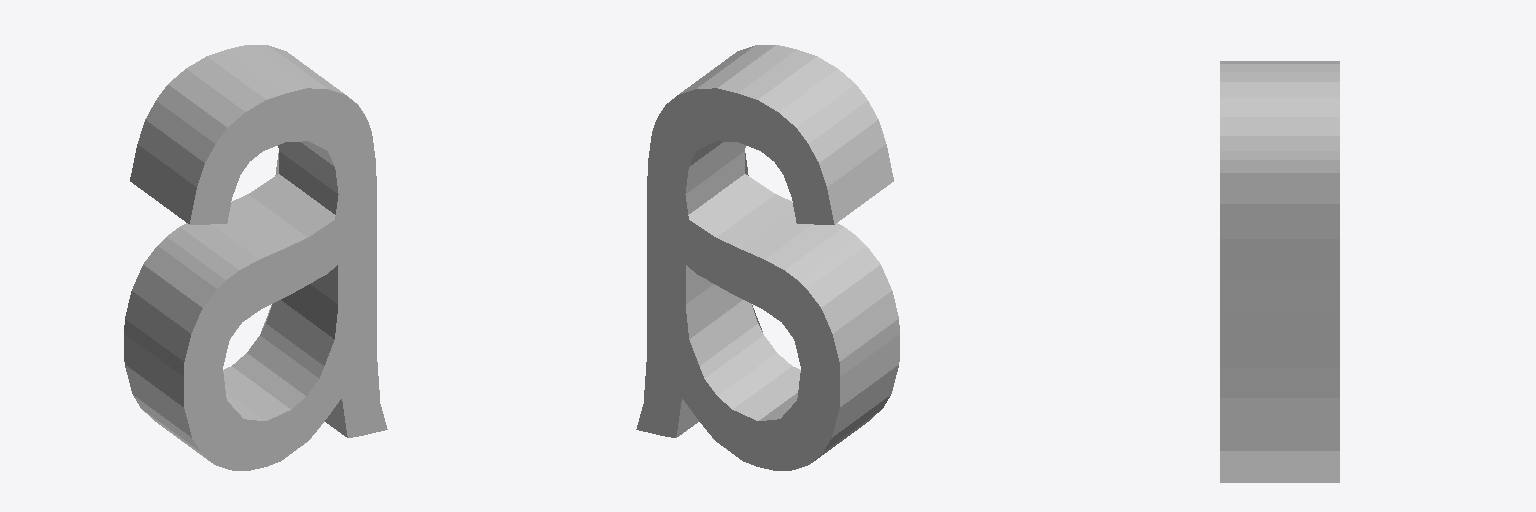
File: hworld2.obj
The picture shows the model from 3 angles: view 1: azimuth 30°, elevation 25°; view 2: azimuth 150°, elevation 25°; view 3: azimuth 270°, elevation 25°; orthographic projection.
Parts seen in each view (by area): view 1: Plane.003; view 2: Plane.003; view 3: Plane.003.
Boxes of the visible parts, x1,y1,x2,y2 form: Plane.003: [124, 45, 387, 470]; Plane.003: [636, 45, 899, 470]; Plane.003: [1220, 61, 1339, 482].
Size of the model in its own units: 0.4415 by 0.7631 by 0.2238.